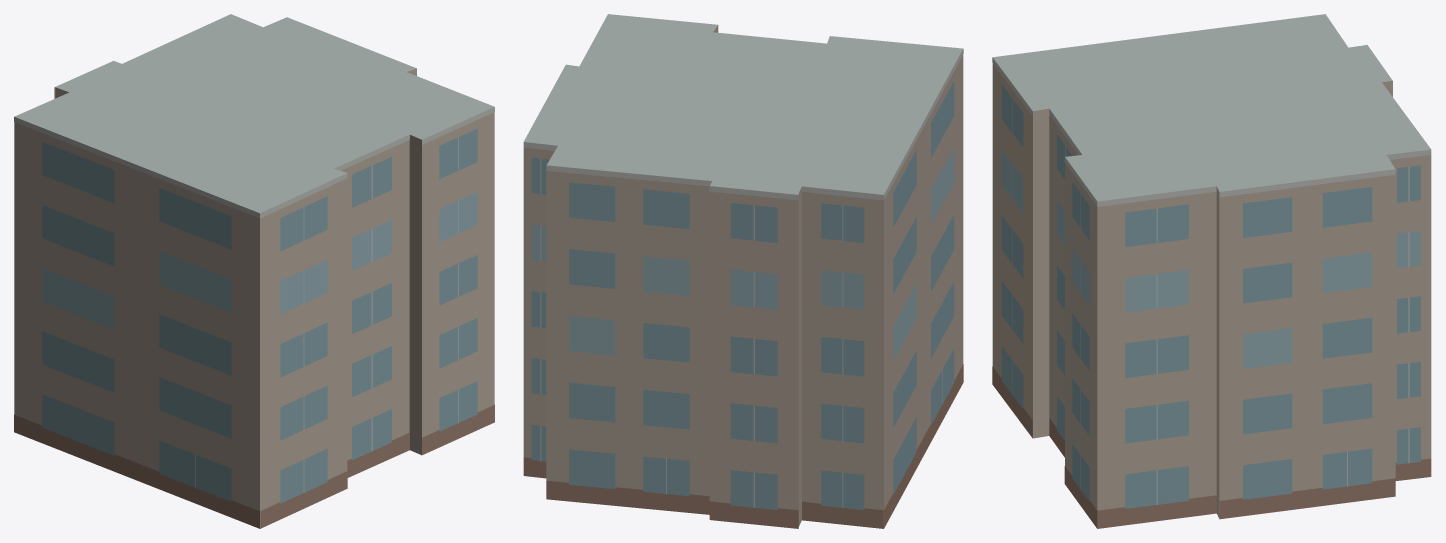
The model's file is survey-upis-32610079.glb.
The picture shows the model from 3 angles, left to right: view 1: azimuth 30°, elevation 25°; view 2: azimuth 150°, elevation 25°; view 3: azimuth 270°, elevation 25°; orthographic projection. The views are drawn at different scales.
Parts seen in each view (by area): view 1: survey-upis-32610079.tmp; view 2: survey-upis-32610079.tmp; view 3: survey-upis-32610079.tmp.
Boxes of the visible parts, <box> form: survey-upis-32610079.tmp: <box>14,14,494,528</box>; survey-upis-32610079.tmp: <box>523,14,963,528</box>; survey-upis-32610079.tmp: <box>992,14,1431,528</box>.
Bounding box in the file's own units: 18.17 × 14.77 × 17.96.
